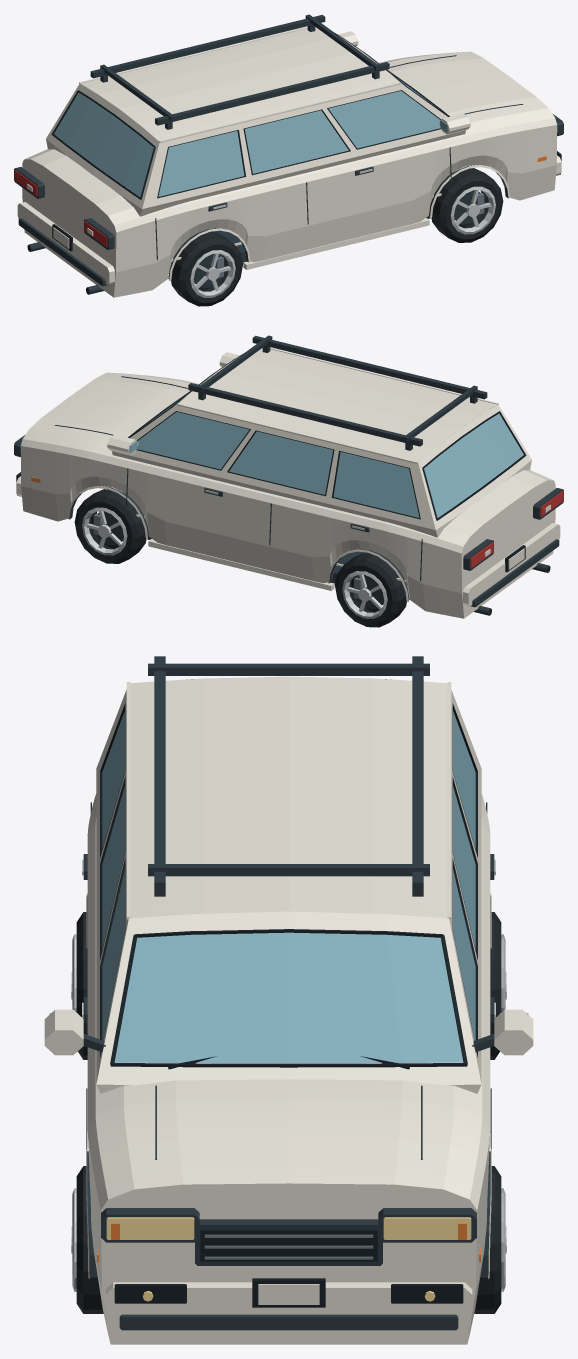
The model's file is b03_three_row_family_suv.glb.
3 views of the same model, one above another, from view 1: azimuth 30°, elevation 25°; view 2: azimuth 150°, elevation 25°; view 3: azimuth 270°, elevation 25° (orthographic). The views are drawn at different scales.
Parts seen in each view (by area): view 1: b03_three_row_family_suv; view 2: b03_three_row_family_suv; view 3: b03_three_row_family_suv.
Part boxes in pixels (x1,y1,x2,y2): b03_three_row_family_suv: (14,14,563,306); b03_three_row_family_suv: (14,335,563,627); b03_three_row_family_suv: (44,656,533,1344).
Size of the model in its own units: 5.21 by 1.98 by 2.39.
